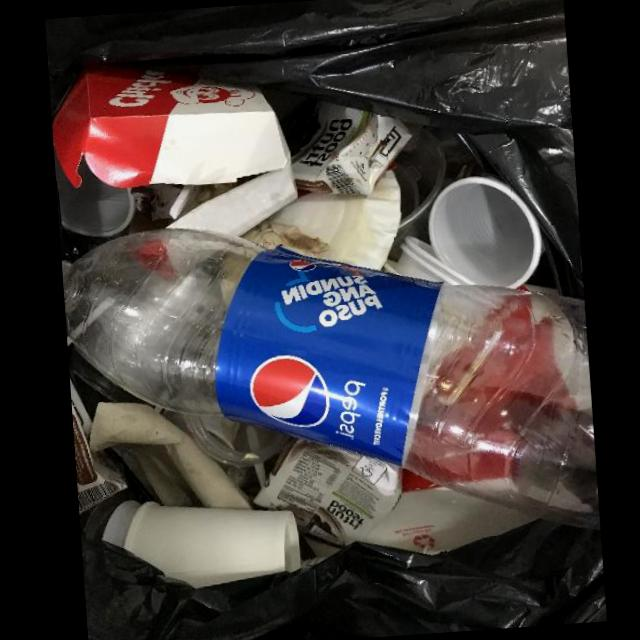carton: (51, 74, 297, 237), (362, 469, 536, 555)
chai_nhua_pet: (62, 228, 599, 519)
giay: (88, 402, 252, 509), (271, 169, 401, 270), (240, 221, 330, 257)
vo_hop_sua: (253, 437, 402, 549), (291, 100, 412, 195), (69, 376, 127, 515)
